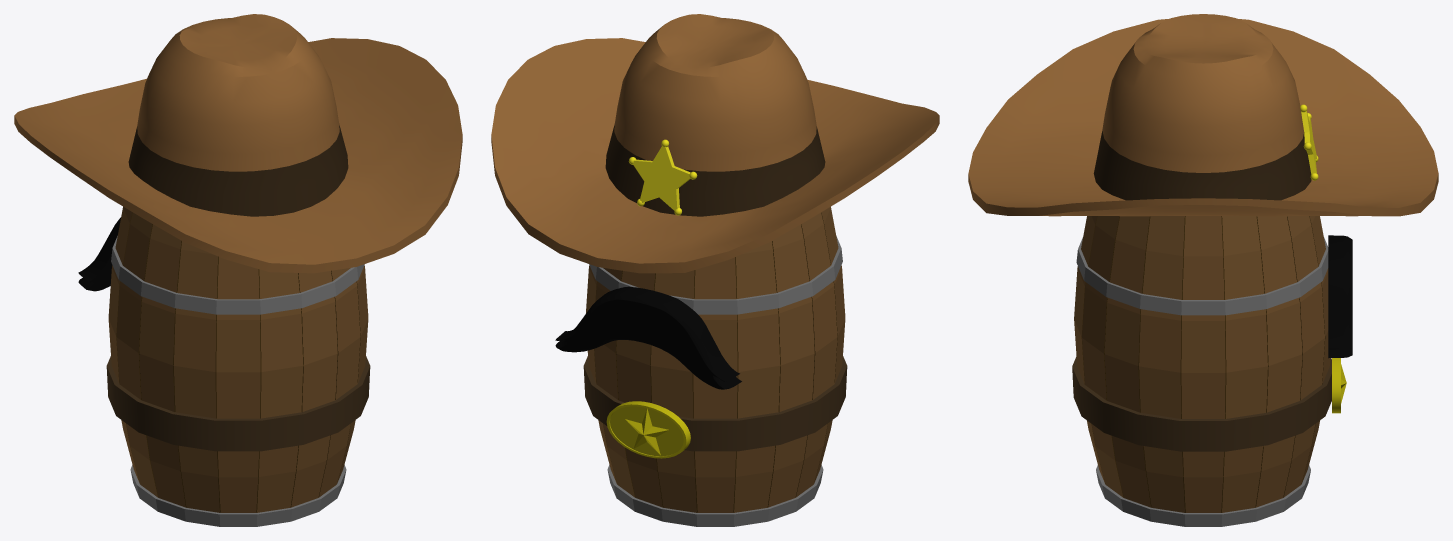
The model's file is barrel sheriff upgrade 1.fbx.
The picture shows the model from 3 angles, left to right: view 1: azimuth 30°, elevation 25°; view 2: azimuth 150°, elevation 25°; view 3: azimuth 270°, elevation 25°; orthographic projection.
Visible parts, largest first — view 1: barrel sheriff; view 2: barrel sheriff; view 3: barrel sheriff.
Part boxes in pixels (x1,y1,x2,y2): barrel sheriff: (14, 14, 462, 526); barrel sheriff: (491, 14, 939, 526); barrel sheriff: (968, 14, 1438, 526).
Bounding box in the file's own units: 674 × 766 × 732.
